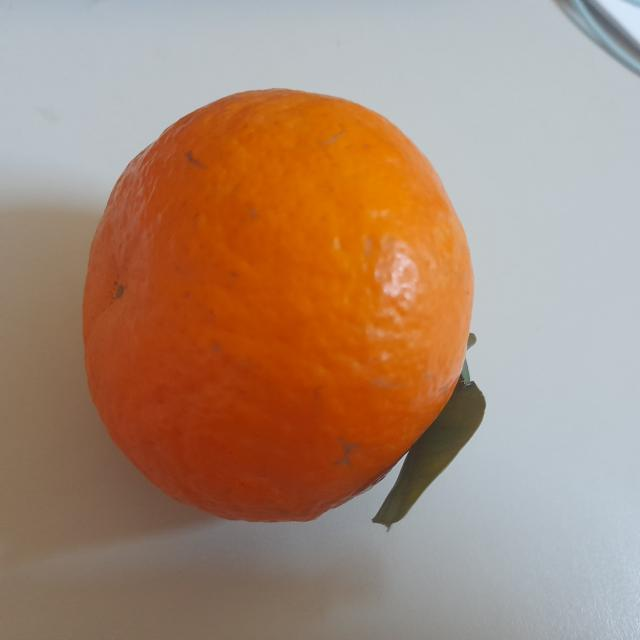Cam: (75, 77, 493, 545)
